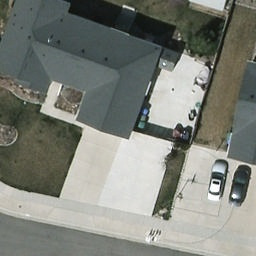car: (224, 166, 252, 207), (204, 160, 228, 201)
